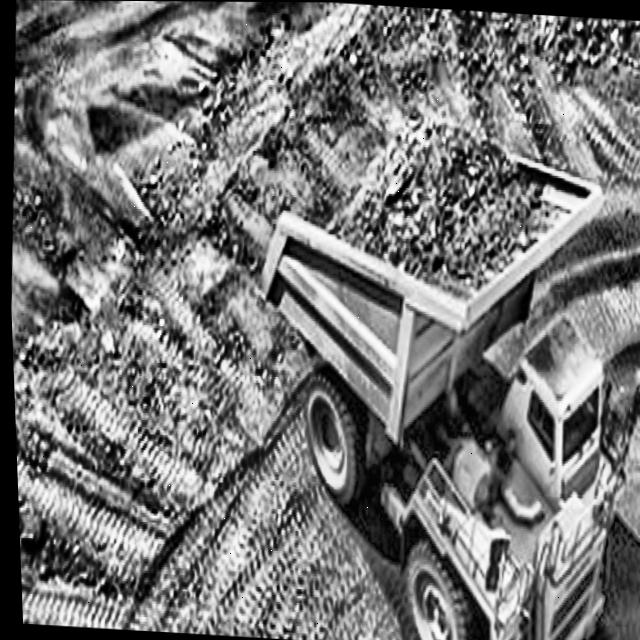dump_truck: (246, 88, 640, 640)
